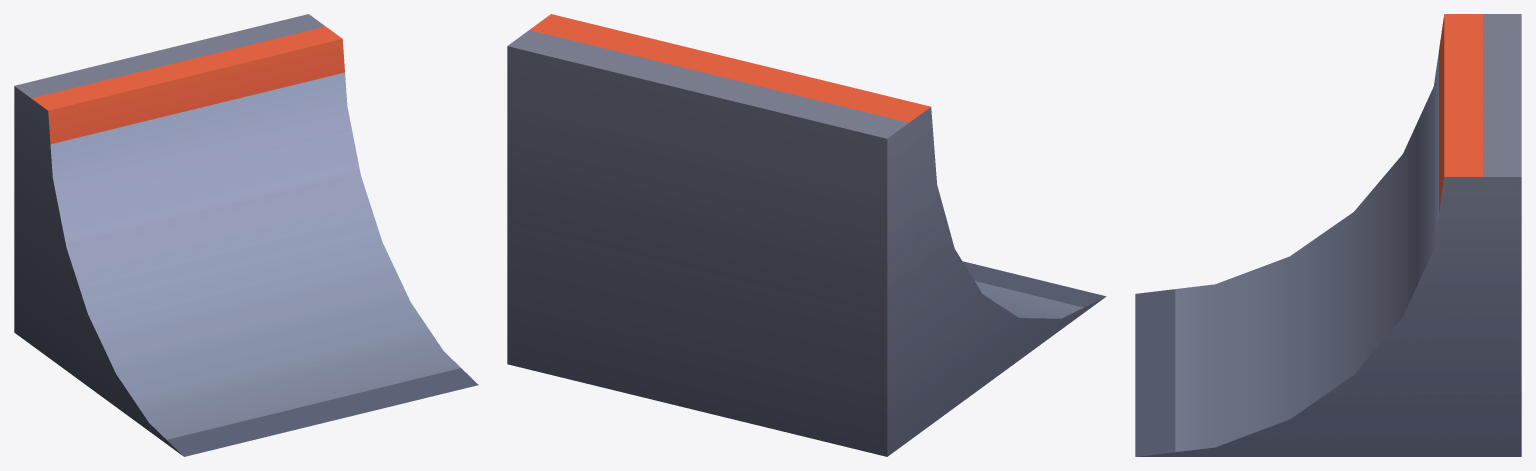
File: bowl-side-transformed.glb
3 views of the same model, side by side, from view 1: azimuth 30°, elevation 25°; view 2: azimuth 150°, elevation 25°; view 3: azimuth 270°, elevation 25° (orthographic). The views are drawn at different scales.
Visible parts, largest first — view 1: bowl-side; view 2: bowl-side; view 3: bowl-side.
Boxes of the visible parts, x1,y1,x2,y2 form: bowl-side: (14,14,478,456); bowl-side: (507,14,1106,456); bowl-side: (1135,14,1521,456).
Bounding box in the file's own units: 1 × 0.8 × 1.
1 material, 1 textured.
